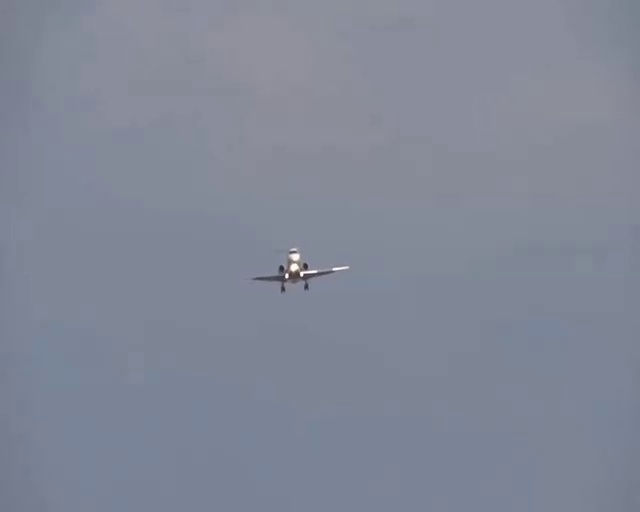AIRPLANE: (249, 248, 349, 293)
